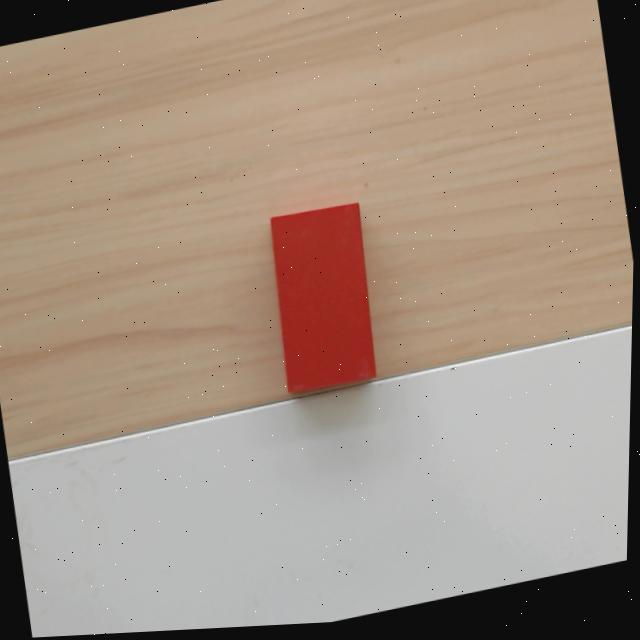Balok-Merah-1005025: (269, 202, 377, 393)
